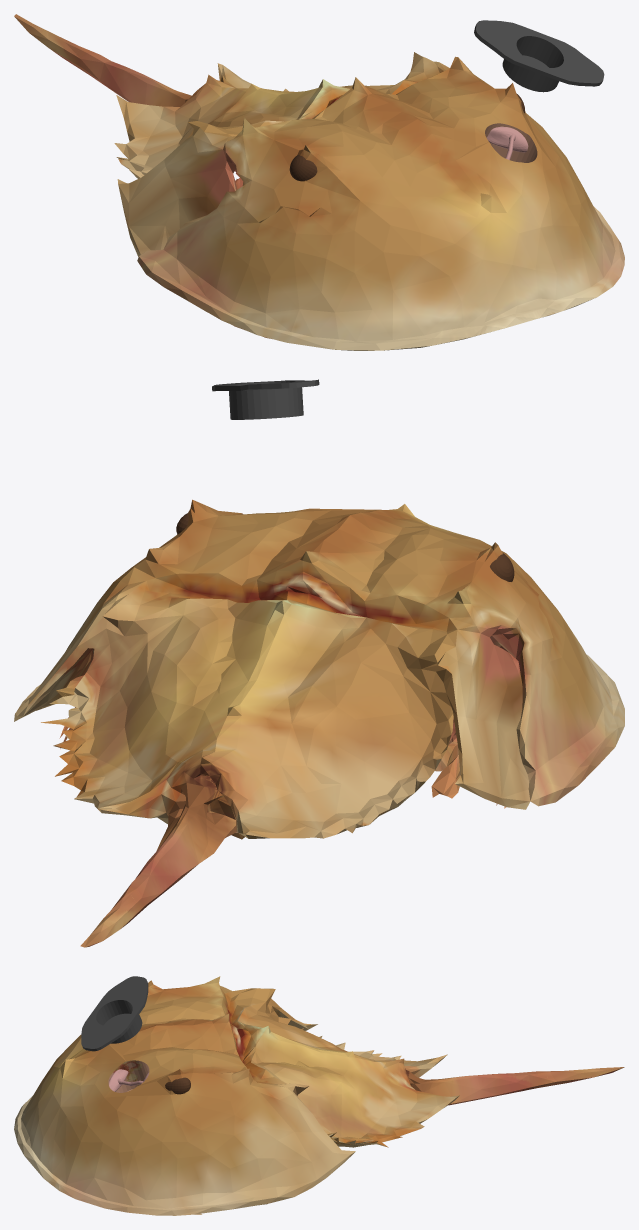
File: recordingChamber_hscrab.glb
3 views of the same model, one above another, from view 1: azimuth 30°, elevation 25°; view 2: azimuth 150°, elevation 25°; view 3: azimuth 270°, elevation 25° (orthographic). The views are drawn at different scales.
Parts seen in each view (by area): view 1: HorseShoeCrab.001, Plane.002, Sphere.001, Sphere.004; view 2: HorseShoeCrab.001, Plane.002; view 3: HorseShoeCrab.001, Plane.002.
Boxes of the visible parts, <box> form: HorseShoeCrab.001: <box>14,14,624,350</box>; Plane.002: <box>474,20,604,92</box>; Sphere.001: <box>486,126,528,152</box>; Sphere.004: <box>289,154,317,181</box>; HorseShoeCrab.001: <box>14,499,624,947</box>; Plane.002: <box>212,379,319,419</box>; HorseShoeCrab.001: <box>14,976,624,1215</box>; Plane.002: <box>81,976,148,1051</box>.
Bounding box in the file's own units: 3.9 × 2.26 × 6.53.
4 materials, 4 textured.
